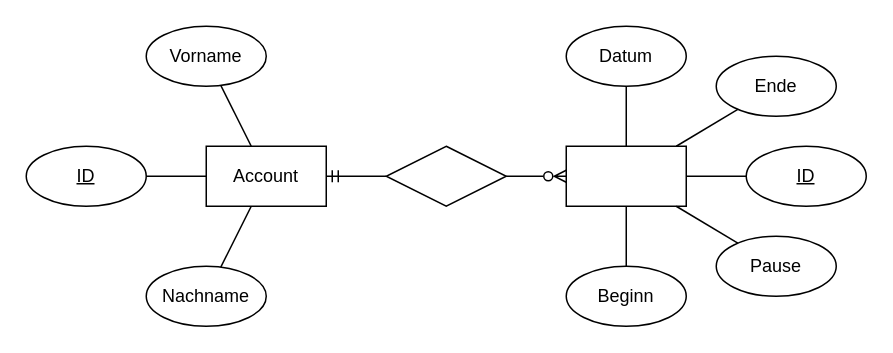
This 893x353 diagram has some shape labels left out. Here are the shapes that lost their labels. From the top down, the box of each, then its label:
(385, 145, 506, 206): verwaltet
(565, 145, 686, 206): Arbeitszeit
